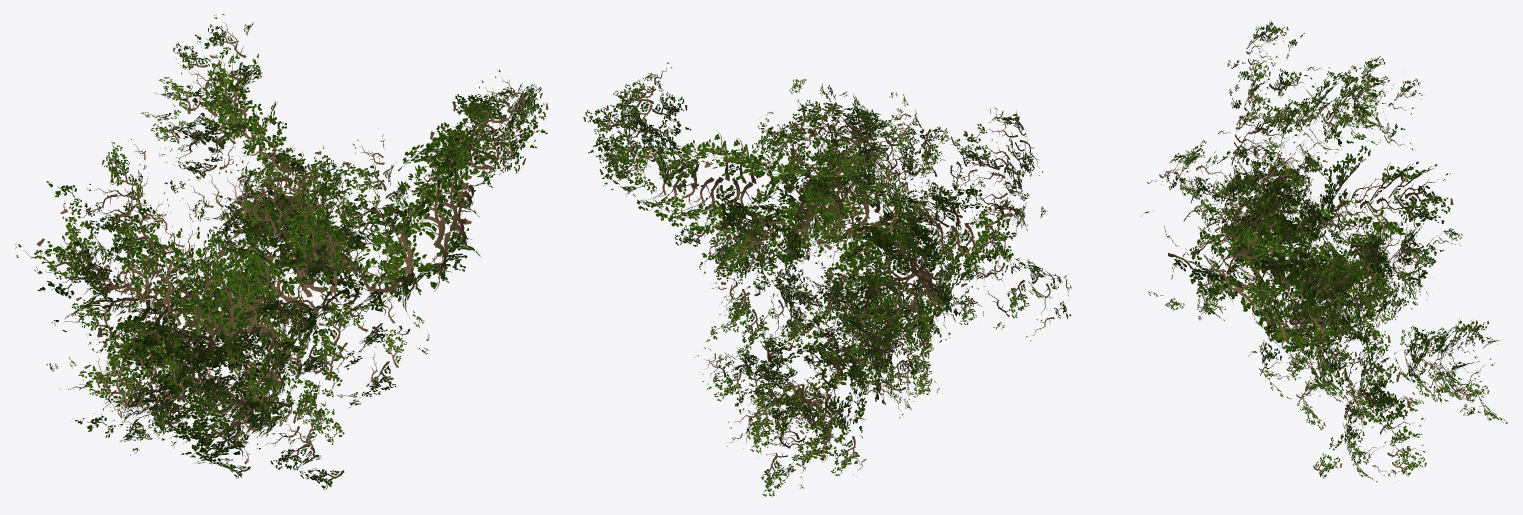
Rendered from BIO_VEG_BIG_Tree_01A - Copie.fbx.
3 views of the same model, side by side, from view 1: azimuth 30°, elevation 25°; view 2: azimuth 150°, elevation 25°; view 3: azimuth 270°, elevation 25° (orthographic). The views are drawn at different scales.
Parts seen in each view (by area): view 1: Branch_01; view 2: Branch_01; view 3: Branch_01.
Part boxes in pixels (box(x1,y1,x2,y2)): Branch_01: box(15, 14, 548, 490); Branch_01: box(583, 62, 1071, 496); Branch_01: box(1141, 20, 1507, 482).
Bounding box in the file's own units: 909 × 790 × 688.
